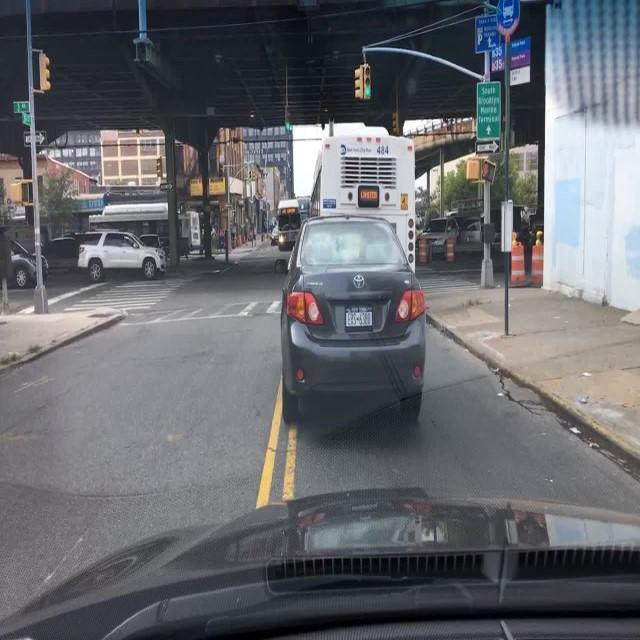normal: (285, 213, 435, 427), (78, 229, 168, 278), (0, 227, 48, 286), (416, 216, 463, 262)
